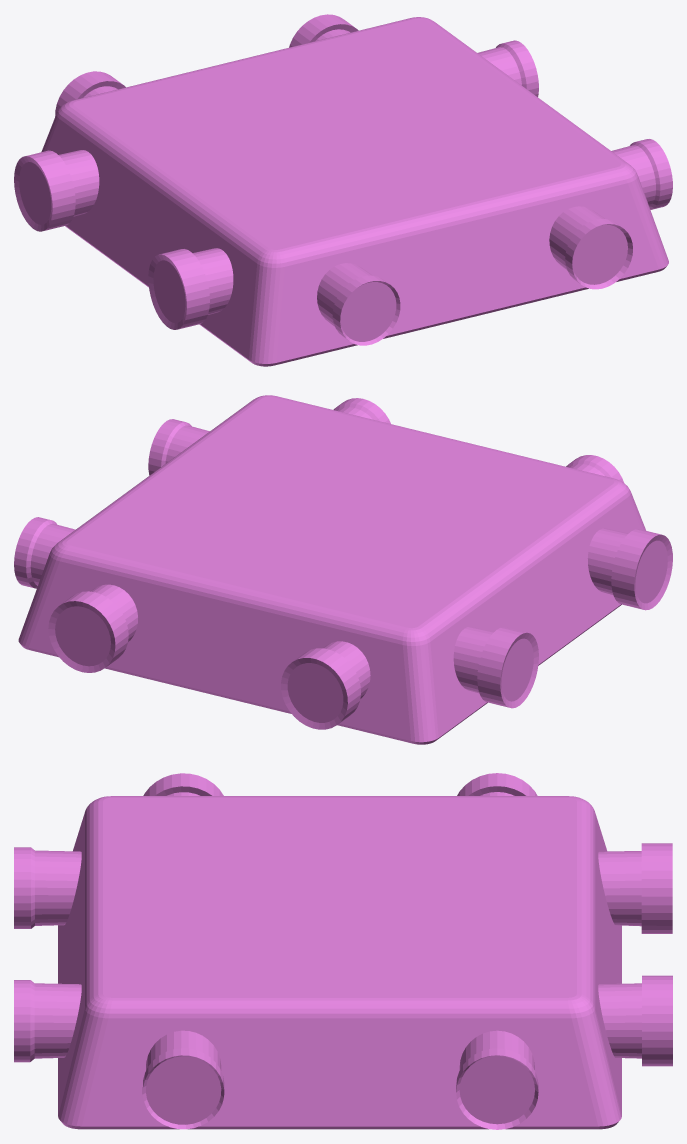
Rendered from 128num.fbx.
3 renders of one model, top to bottom at view 1: azimuth 30°, elevation 25°; view 2: azimuth 150°, elevation 25°; view 3: azimuth 270°, elevation 25°, orthographic. The views are drawn at different scales.
Visible parts, largest first — view 1: Cube.015; view 2: Cube.015; view 3: Cube.015.
Part boxes in pixels (box(x1,y1,x2,y2)): Cube.015: box(14, 14, 672, 366); Cube.015: box(14, 395, 672, 744); Cube.015: box(14, 773, 672, 1129).
Size of the model in its own units: 5.24 by 1 by 5.24.
